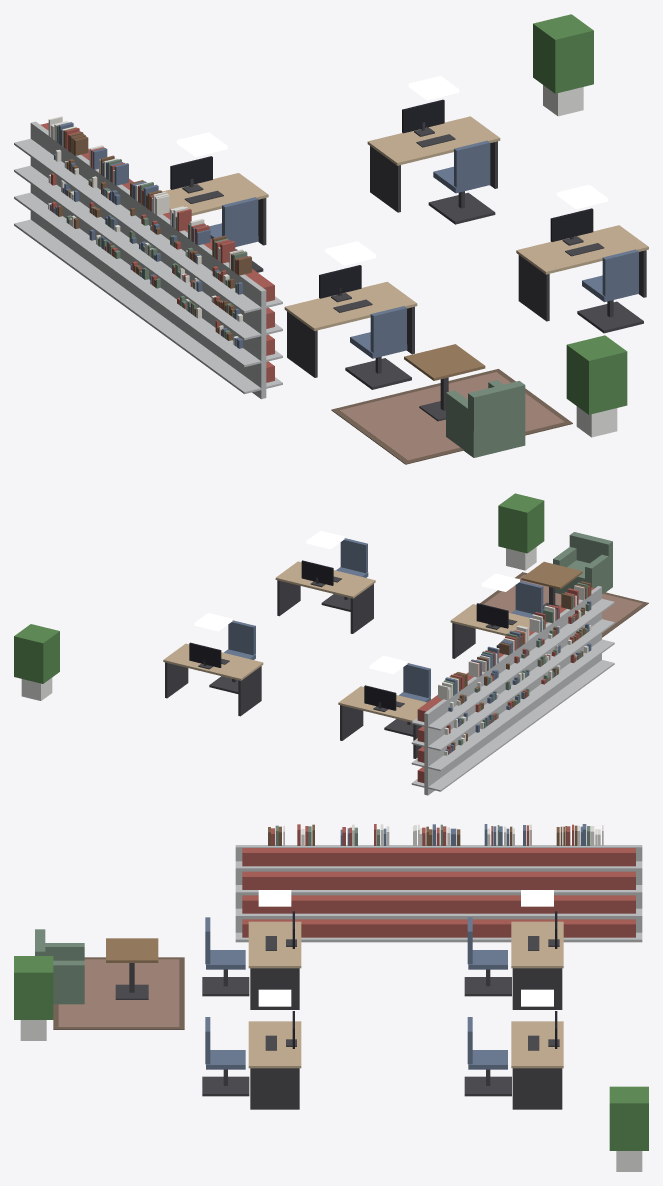
Rendered from fine-s4.glb.
The picture shows the model from 3 angles, top to bottom: view 1: azimuth 30°, elevation 25°; view 2: azimuth 150°, elevation 25°; view 3: azimuth 270°, elevation 25°; orthographic projection. The views are drawn at different scales.
Visible parts, largest first — view 1: soft-s4, shelving.020, office-desk-real.015, shelving.016, office-desk-real.013, office-desk-real.014, shelving.018, shelving.019, plant-medium.006, plant-medium.007, sofa.003, shelving.017 (+10 smaller); view 2: soft-s4, shelving.016, office-desk-real.015, office-desk-real.013, shelving.017, shelving.020, shelving.018, plant-medium.006, plant-medium.007, office-desk-real.012, sofa.003, shelving.019 (+10 smaller); view 3: soft-s4, shelving.016, shelving.019, shelving.018, shelving.020, shelving.017, office-desk-real.015, office-desk-real.013, office-desk-real.014, office-desk-real.012, plant-medium.007, plant-medium.006 (+10 smaller).
Part boxes in pixels (x1=…): soft-s4: x1=48, y1=116, x2=572, y2=464; shelving.020: x1=177, y1=242, x2=282, y2=399; office-desk-real.015: x1=516, y1=208, x2=648, y2=321; shelving.016: x1=14, y1=121, x2=98, y2=273; office-desk-real.013: x1=367, y1=99, x2=500, y2=212; office-desk-real.014: x1=284, y1=265, x2=417, y2=377; shelving.018: x1=95, y1=183, x2=182, y2=333; shelving.019: x1=137, y1=214, x2=220, y2=363; plant-medium.006: x1=566, y1=335, x2=627, y2=437; plant-medium.007: x1=533, y1=14, x2=593, y2=116; sofa.003: x1=446, y1=380, x2=525, y2=457; shelving.017: x1=55, y1=152, x2=138, y2=303; soft-s4: x1=438, y1=572, x2=648, y2=755; shelving.016: x1=411, y1=676, x2=490, y2=795; office-desk-real.015: x1=275, y1=560, x2=375, y2=633; office-desk-real.013: x1=163, y1=642, x2=263, y2=716; shelving.017: x1=459, y1=654, x2=521, y2=768; shelving.020: x1=550, y1=586, x2=614, y2=698; shelving.018: x1=490, y1=632, x2=552, y2=744; plant-medium.006: x1=498, y1=493, x2=544, y2=570; plant-medium.007: x1=14, y1=624, x2=59, y2=700; office-desk-real.012: x1=338, y1=685, x2=426, y2=758; sofa.003: x1=553, y1=532, x2=612, y2=594; shelving.019: x1=520, y1=609, x2=583, y2=723; soft-s4: x1=53, y1=824, x2=603, y2=1029; shelving.016: x1=524, y1=845, x2=642, y2=942; shelving.019: x1=307, y1=845, x2=425, y2=942; shelving.018: x1=380, y1=845, x2=497, y2=942; shelving.020: x1=235, y1=845, x2=353, y2=942; shelving.017: x1=452, y1=845, x2=569, y2=942; office-desk-real.015: x1=248, y1=1011, x2=301, y2=1109; office-desk-real.013: x1=511, y1=1011, x2=563, y2=1109; office-desk-real.014: x1=248, y1=911, x2=301, y2=1009; office-desk-real.012: x1=511, y1=911, x2=563, y2=1009; plant-medium.007: x1=609, y1=1086, x2=648, y2=1171; plant-medium.006: x1=14, y1=956, x2=53, y2=1040.
Size of the model in its own units: 8.72 by 1.93 by 9.68.
